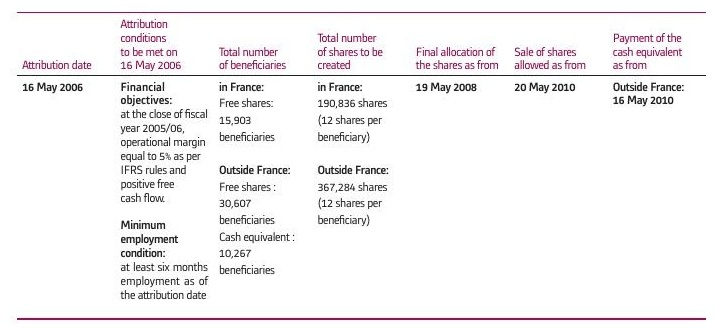table: (0, 0, 716, 329)
